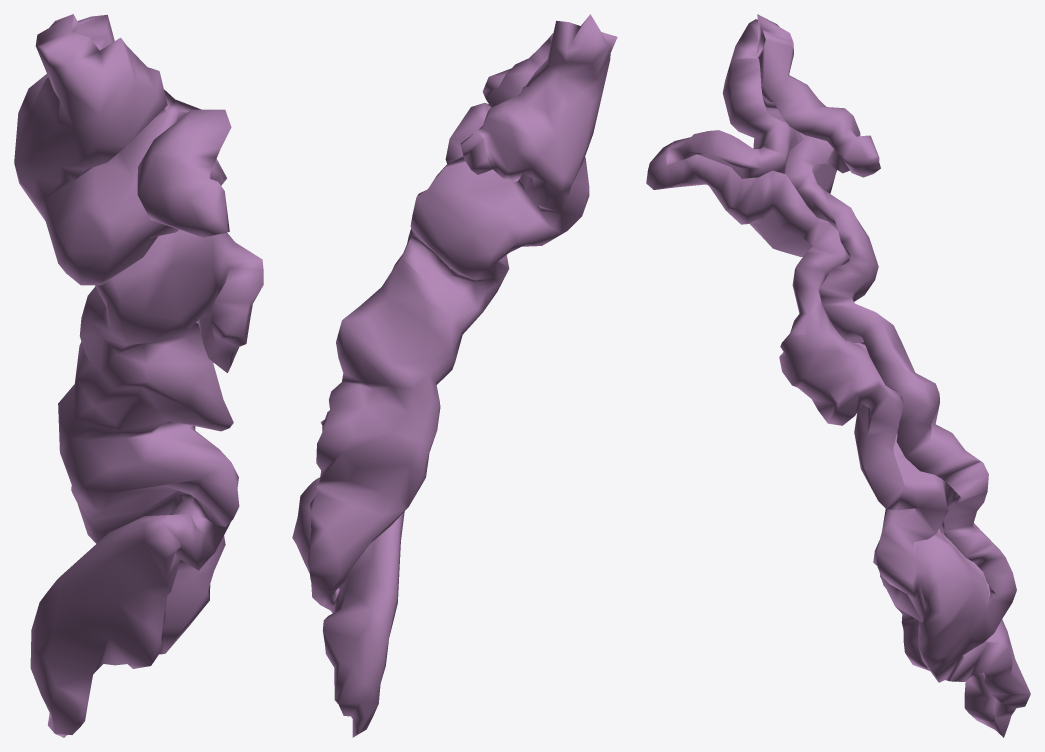
3 renders of one model, left to right at view 1: azimuth 30°, elevation 25°; view 2: azimuth 150°, elevation 25°; view 3: azimuth 270°, elevation 25°, orthographic. The views are drawn at different scales.
Parts seen in each view (by area): view 1: 左侧颞上沟; view 2: 左侧颞上沟; view 3: 左侧颞上沟.
Boxes of the visible parts, box(x1,y1,x2,y2) form: 左侧颞上沟: box(14, 14, 263, 737); 左侧颞上沟: box(292, 14, 617, 737); 左侧颞上沟: box(646, 14, 1030, 737).
Size of the model in its own units: 0.0527 by 0.1453 by 0.0759.
